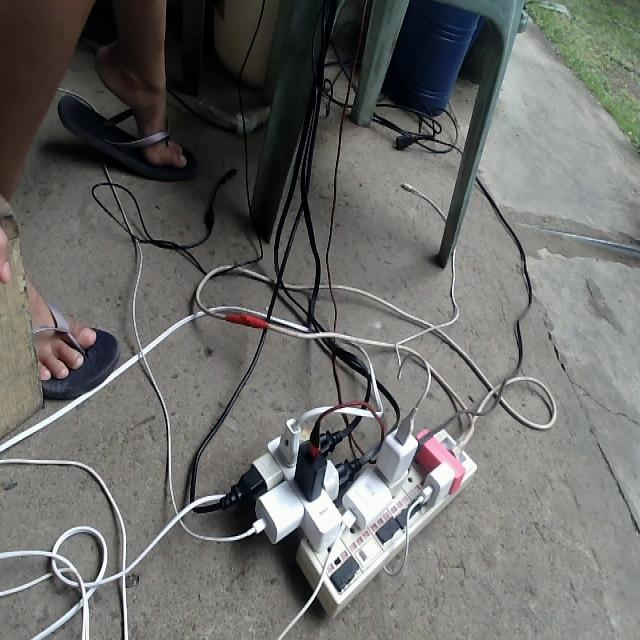-: (230, 409, 476, 616)
